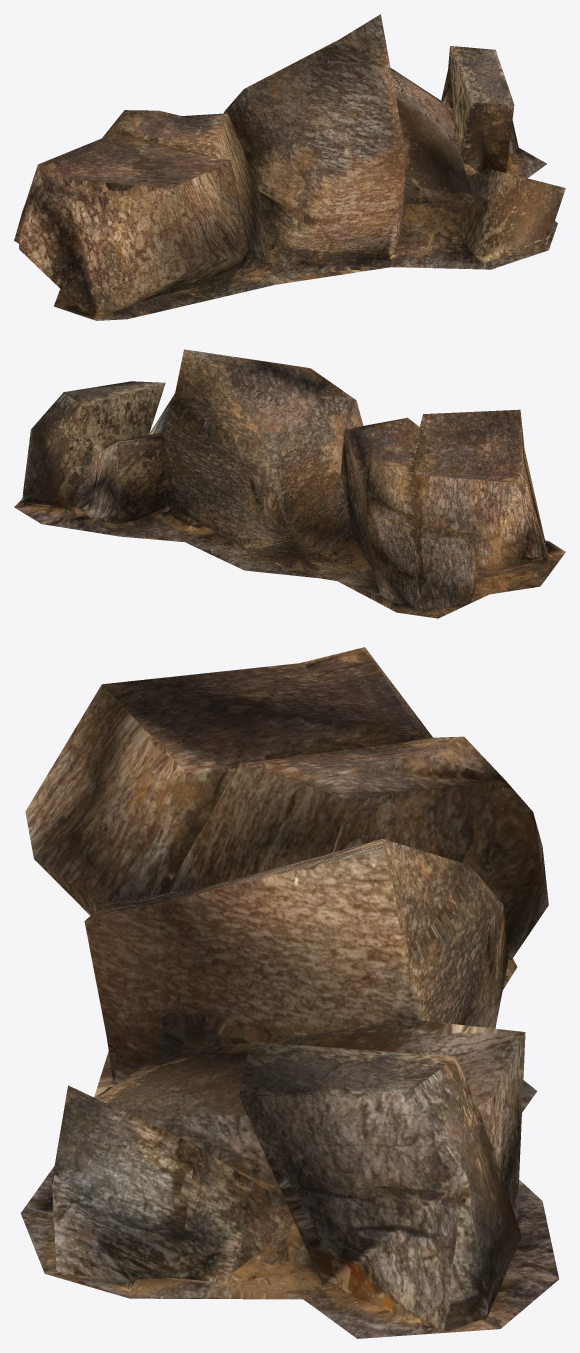
Rendered from namaqualand_boulder_02.glb.
3 views of the same model, one above another, from view 1: azimuth 30°, elevation 25°; view 2: azimuth 150°, elevation 25°; view 3: azimuth 270°, elevation 25° (orthographic). The views are drawn at different scales.
Visible parts, largest first — view 1: boulder_02; view 2: boulder_02; view 3: boulder_02.
Part boxes in pixels (box(x1,y1,x2,y2)): boulder_02: box(14, 14, 565, 320); boulder_02: box(14, 349, 565, 618); boulder_02: box(20, 647, 558, 1338).
Size of the model in its own units: 2.48 by 0.8563 by 1.17.
Materials: 1 (1 with a texture image).
